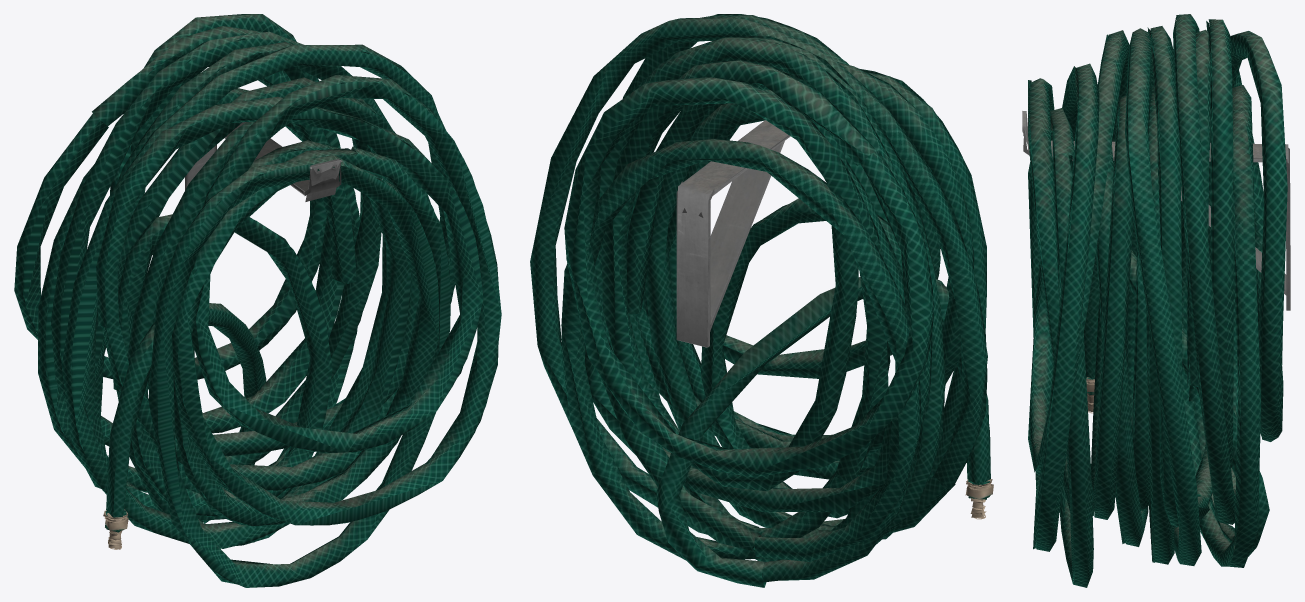
File: garden_hose_wall_mounted_01_1k.gltf
3 renders of one model, left to right at view 1: azimuth 30°, elevation 25°; view 2: azimuth 150°, elevation 25°; view 3: azimuth 270°, elevation 25°, orthographic. The views are drawn at different scales.
Visible parts, largest first — view 1: garden_hose, garden_hose_wall_bracket; view 2: garden_hose, garden_hose_wall_bracket; view 3: garden_hose, garden_hose_wall_bracket.
Part boxes in pixels (x1,y1,x2,y2): garden_hose: (14,14,501,587); garden_hose_wall_bracket: (185,122,342,201); garden_hose: (530,14,993,587); garden_hose_wall_bracket: (676,120,790,347); garden_hose: (1028,14,1287,587); garden_hose_wall_bracket: (1022,111,1290,310).
Bounding box in the file's own units: 0.4684 × 0.558 × 0.2503.
1 material, 1 textured.
